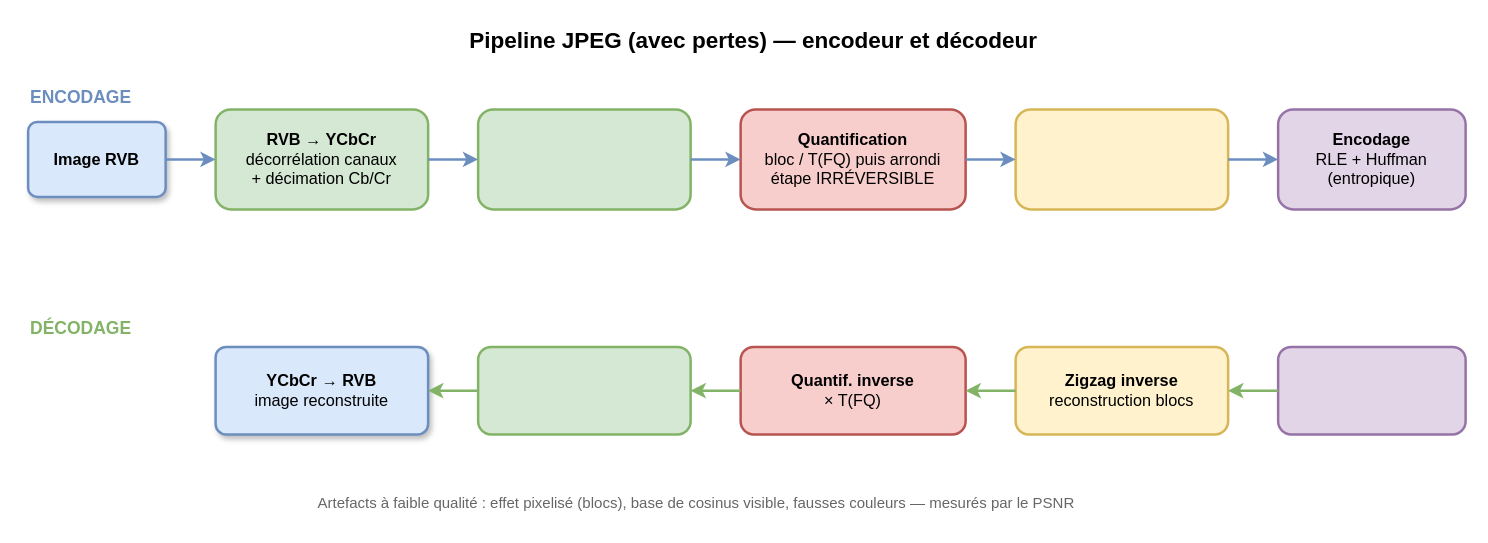
The diagram is 1488 pixels wide and 543 high, and some of its shapes have lost their labels. Each missing label, with the centre of its shape:
"AC/DC + zigzag DC = coeff [1,1] AC en zigzag + EOB" goes at pixel 1121 159.
"DCT 2D par blocs 8×8 énergie → basses fréq." goes at pixel 583 159.
"Décodage entropique" goes at pixel 1371 390.
"IDCT 2D par blocs 8×8" goes at pixel 583 390.
